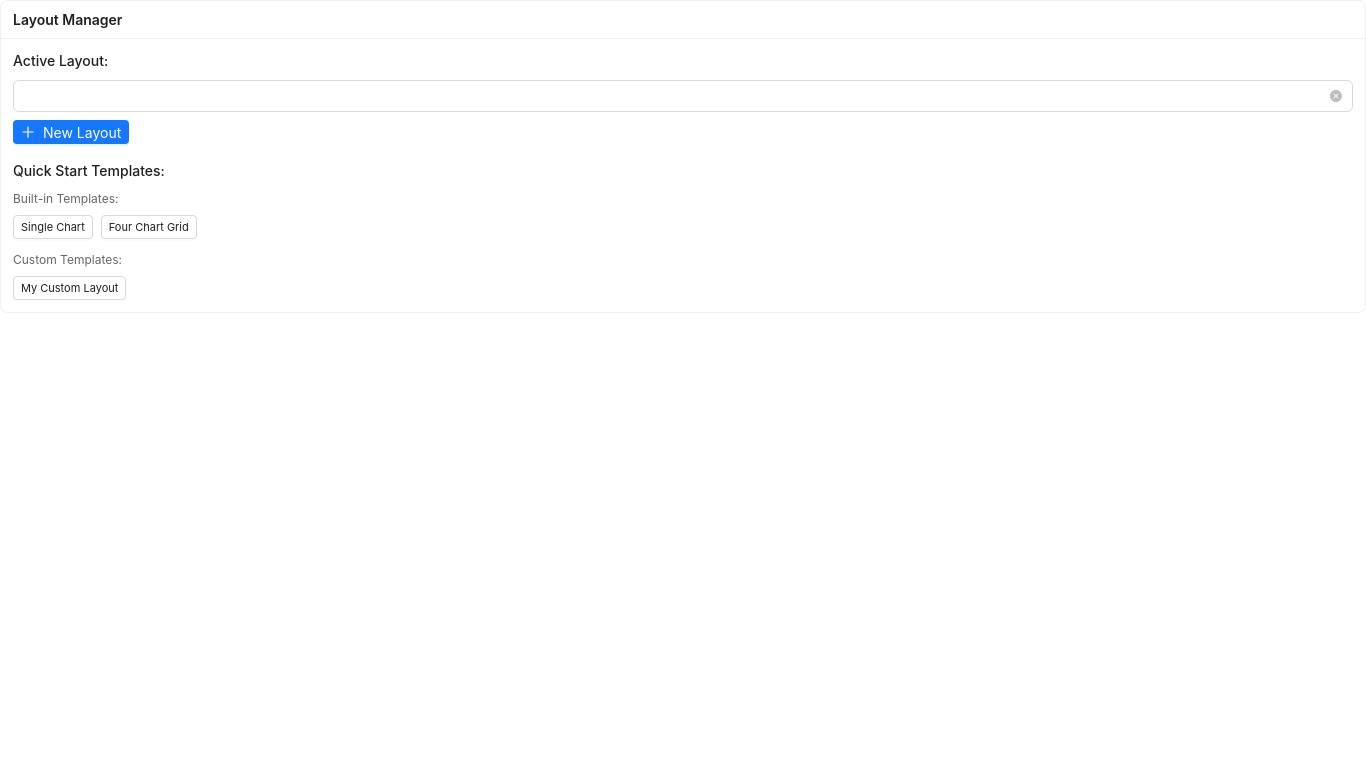
Test: LayoutManager › Layout Creation › should open create layout modal when New Layout clicked
Click the button "New Layout".
click(71, 132)  # box top-left (13, 120), bottom-right (129, 144)
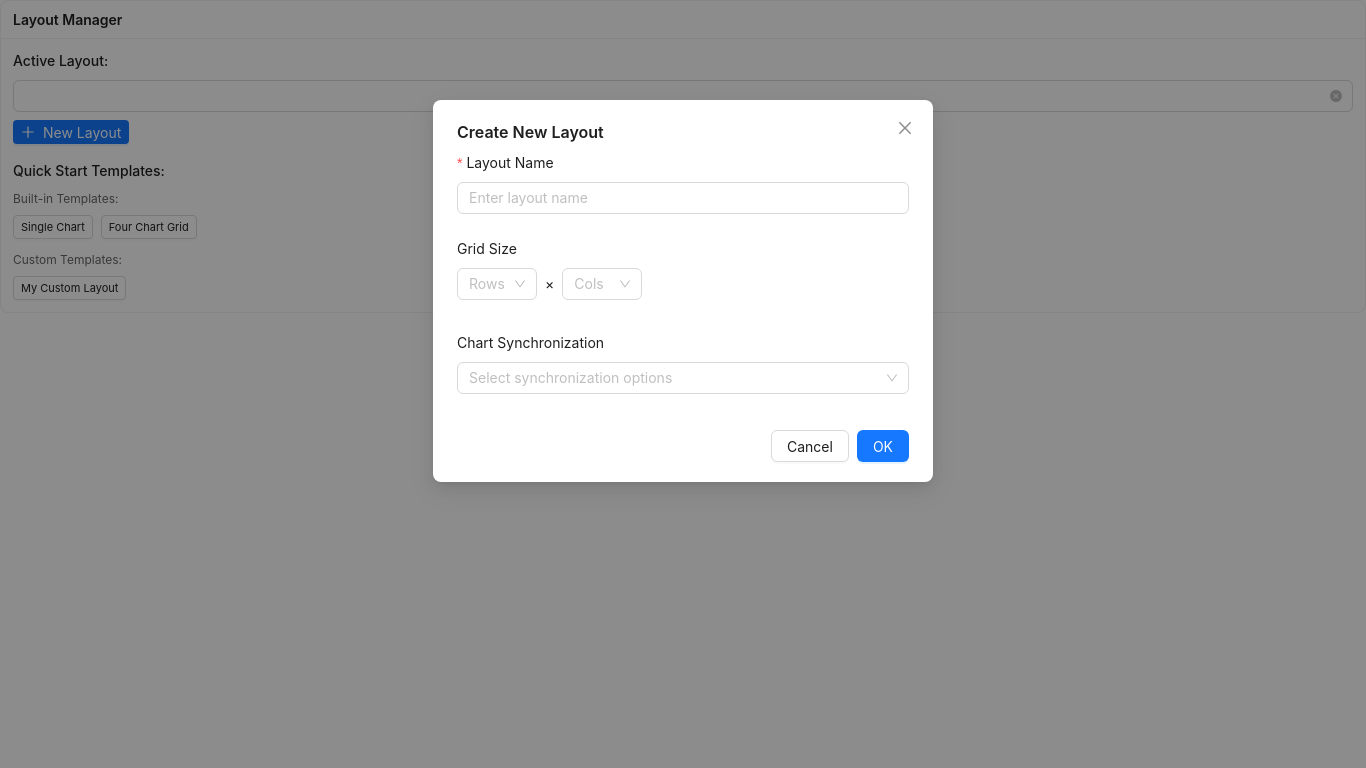
Expected: the text "Create New Layout" is shown, top-left (457, 122), bottom-right (604, 142)
Expected: the field with placeholder "Enter layout name" is shown, top-left (457, 182), bottom-right (909, 214)
